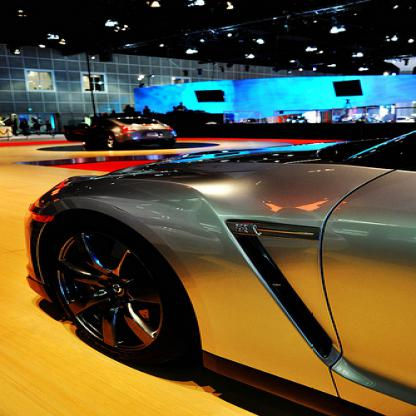car: (24, 129, 415, 415), (64, 111, 178, 148)
